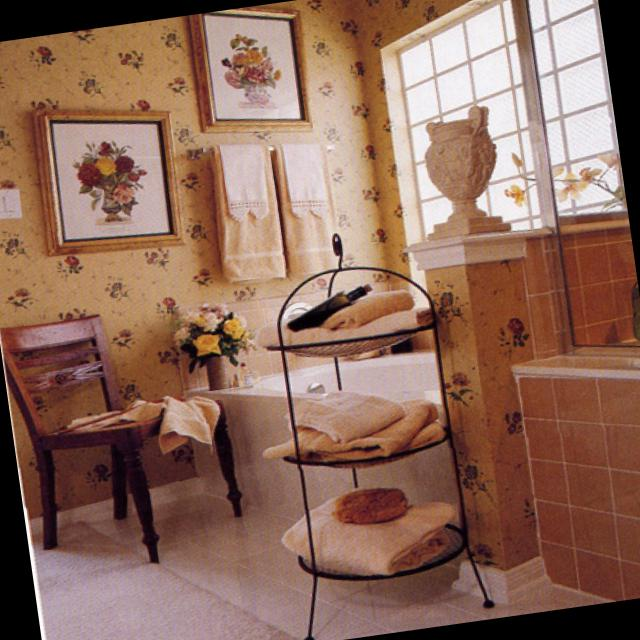chair -occluded-: (7, 311, 242, 555)
picture occluded: (30, 105, 184, 253), (188, 10, 314, 127)
